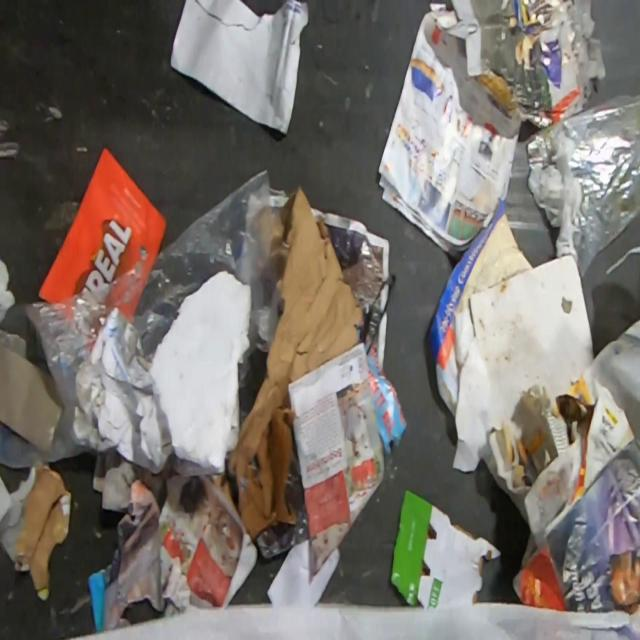cardboard: (388, 487, 505, 608)
soft_plastic: (0, 167, 292, 468), (525, 93, 640, 279)
